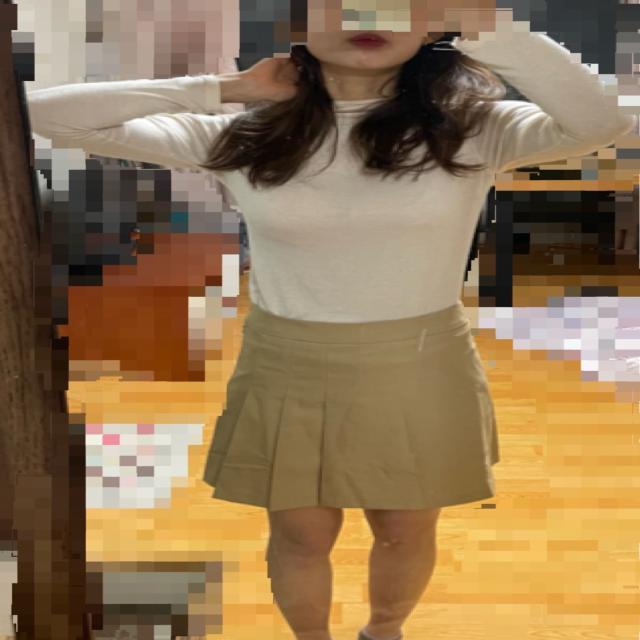longsleeve: (28, 17, 640, 325)
skirt: (202, 303, 500, 511)
